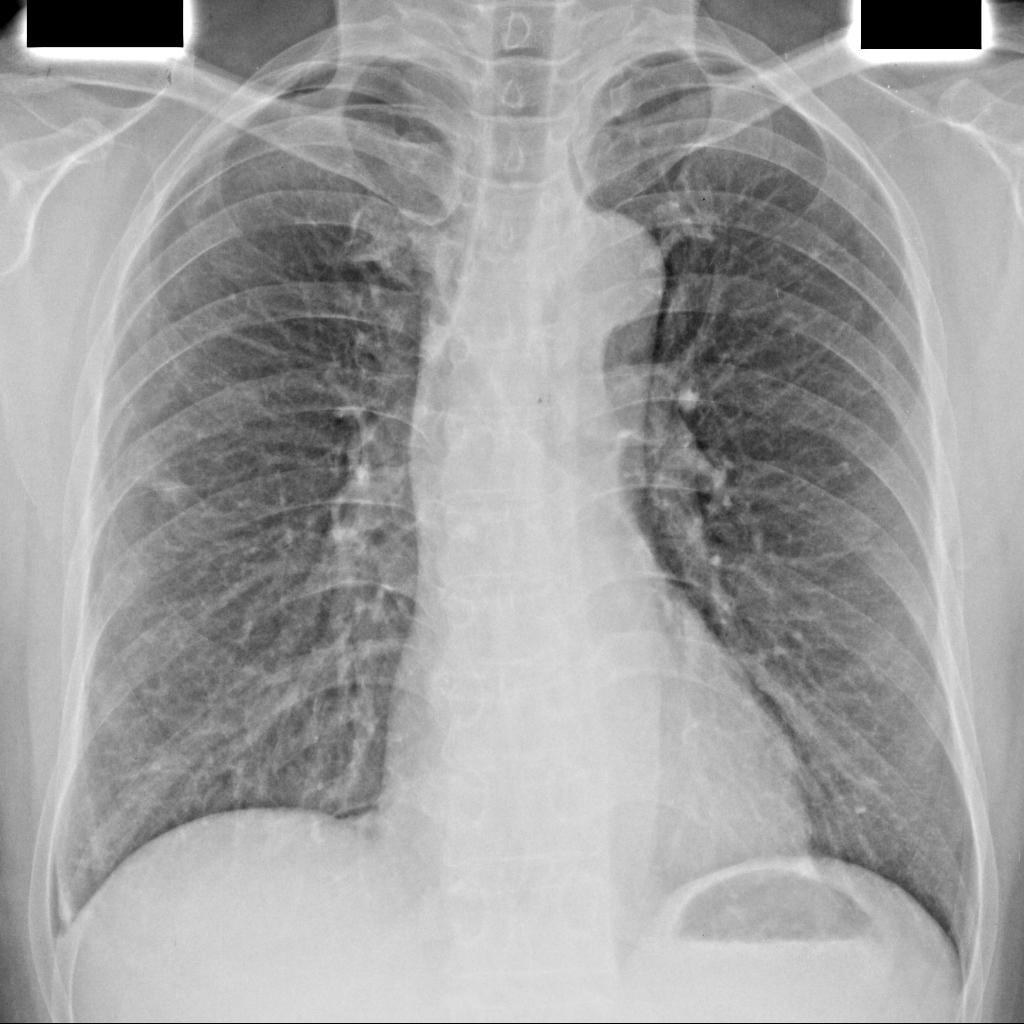Nodule: (149, 463, 185, 499)
